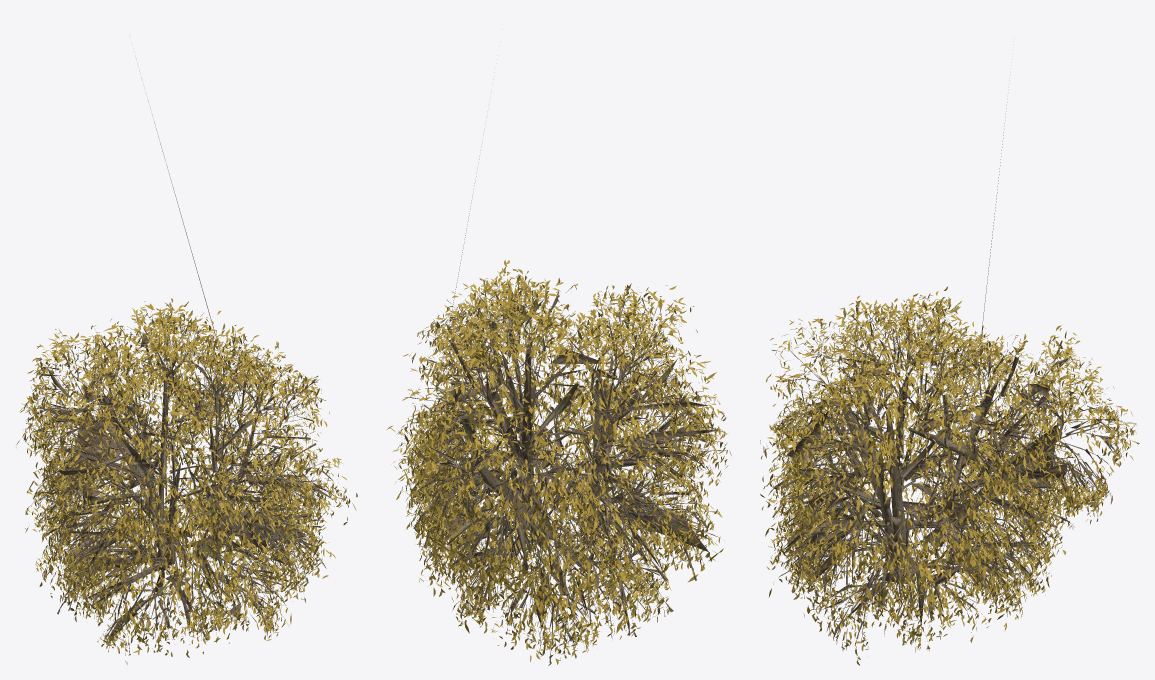
The model's file is tree_02_lod1.glb.
3 renders of one model, left to right at view 1: azimuth 30°, elevation 25°; view 2: azimuth 150°, elevation 25°; view 3: azimuth 270°, elevation 25°, orthographic. The views are drawn at different scales.
Visible parts, largest first — view 1: Tree_02_LOD1; view 2: Tree_02_LOD1; view 3: Tree_02_LOD1.
Boxes of the visible parts, x1,y1,x2,y2 form: Tree_02_LOD1: [16, 78, 357, 664]; Tree_02_LOD1: [387, 133, 731, 665]; Tree_02_LOD1: [760, 102, 1139, 665].
Bounding box in the file's own units: 7.47 × 15.37 × 8.66.
Materials: 2 (2 with a texture image).
